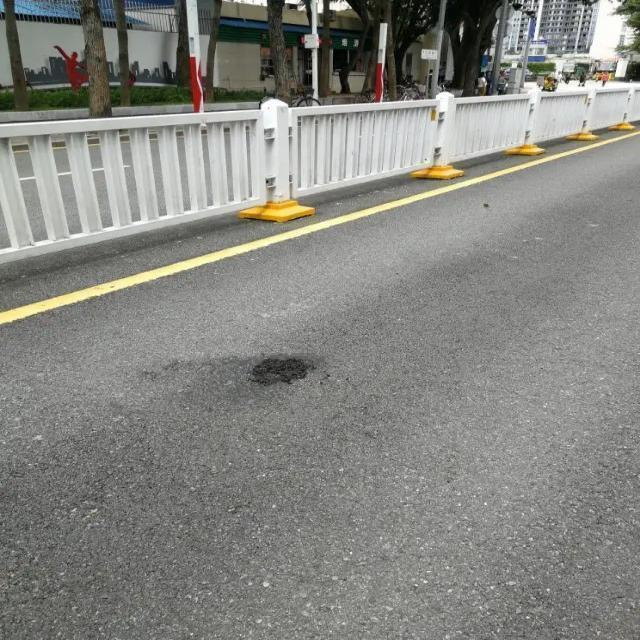Pothole: (250, 355, 314, 384)
